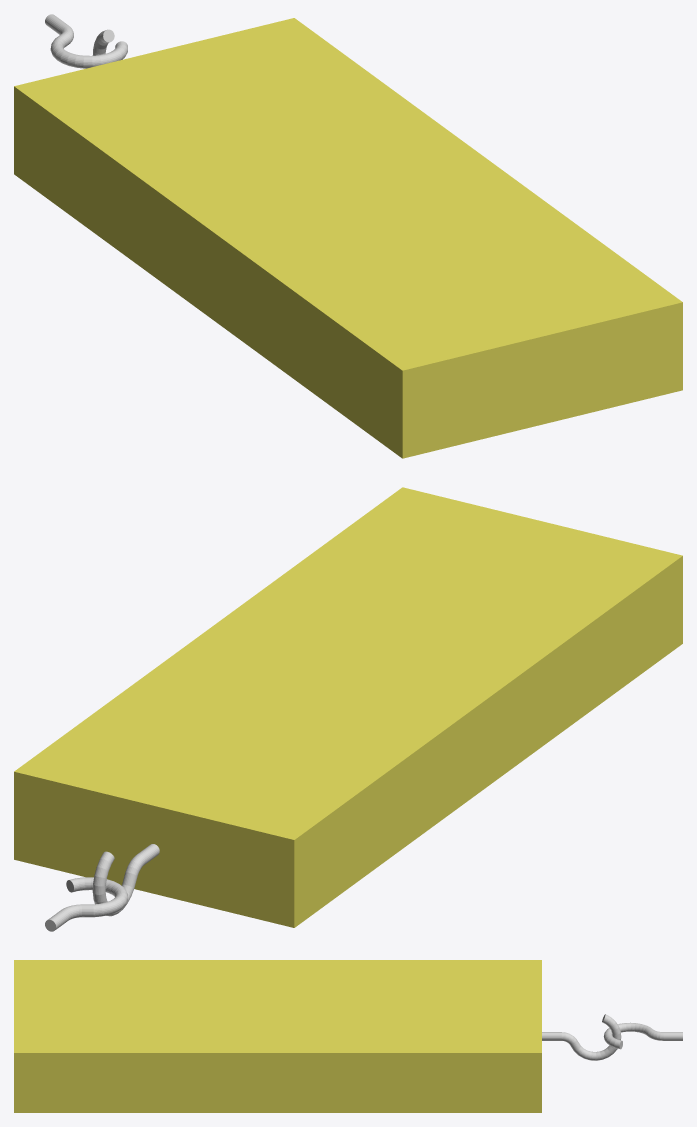
The model's file is dynamometer.gltf.
3 views of the same model, one above another, from view 1: azimuth 30°, elevation 25°; view 2: azimuth 150°, elevation 25°; view 3: azimuth 270°, elevation 25° (orthographic). The views are drawn at different scales.
Visible parts, largest first — view 1: b_dyn_body_001_, b_dyn_hook_small_001_; view 2: b_dyn_body_001_, b_dyn_hook_small_001_, b_dyn_hook_001_; view 3: b_dyn_body_001_, b_dyn_hook_001_, b_dyn_hook_small_001_.
Part boxes in pixels (x1=…): b_dyn_body_001_: x1=14, y1=18, x2=682, y2=458; b_dyn_hook_small_001_: x1=45, y1=14, x2=127, y2=68; b_dyn_body_001_: x1=14, y1=487, x2=682, y2=927; b_dyn_hook_small_001_: x1=45, y1=877, x2=127, y2=931; b_dyn_hook_001_: x1=92, y1=844, x2=159, y2=916; b_dyn_body_001_: x1=14, y1=960, x2=541, y2=1112; b_dyn_hook_001_: x1=542, y1=1014, x2=621, y2=1060; b_dyn_hook_small_001_: x1=603, y1=1022, x2=682, y2=1049.
Size of the model in its own units: 50 by 15 by 152.
